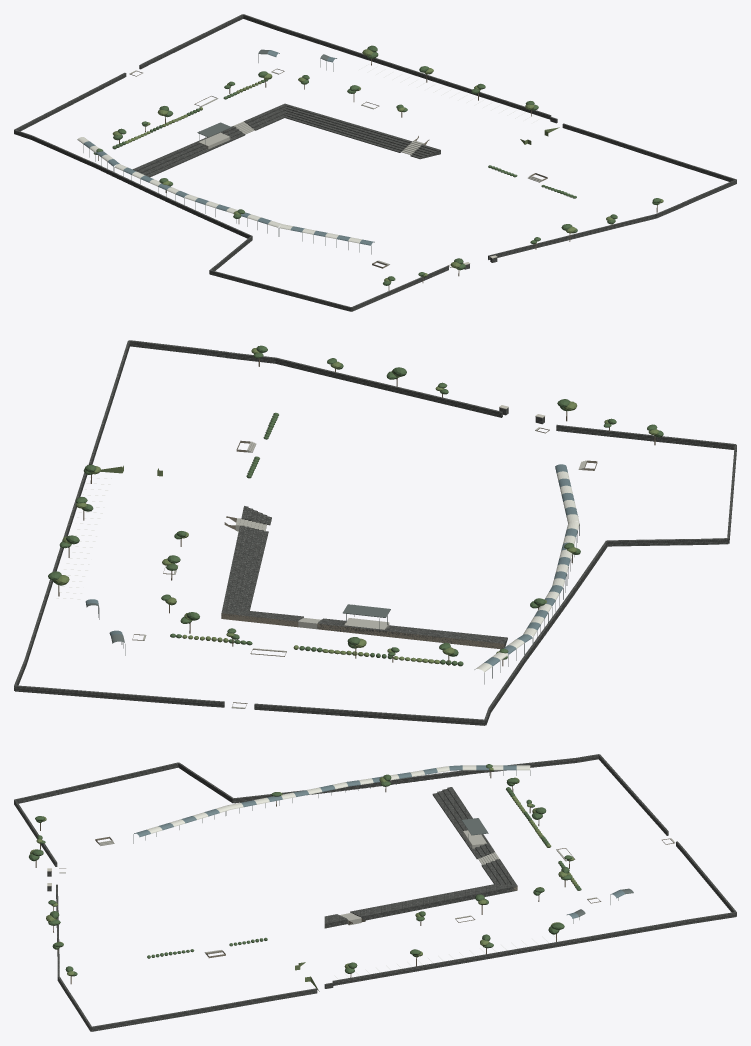
The picture shows the model from 3 angles, top to bottom: view 1: azimuth 30°, elevation 25°; view 2: azimuth 150°, elevation 25°; view 3: azimuth 270°, elevation 25°; orthographic projection. The views are drawn at different scales.
Visible parts, largest first — view 1: facility_basalt-boundary, facility_basalt-stands, planting_mixed-trees, facility_west-open-covered-walk, planting_low-shrubs, facility_open-stage; view 2: facility_basalt-boundary, facility_basalt-stands, planting_mixed-trees, facility_west-open-covered-walk, facility_terrain-contour-join, planting_low-shrubs, facility_open-stage; view 3: facility_basalt-boundary, facility_basalt-stands, facility_west-open-covered-walk, planting_mixed-trees, planting_low-shrubs, facility_open-stage.
Boxes of the visible parts, left/top/right/bottom form: facility_basalt-boundary: left=14, top=14, right=736, bottom=311; facility_basalt-stands: left=132, top=103, right=440, bottom=177; planting_mixed-trees: left=93, top=45, right=663, bottom=290; facility_west-open-covered-walk: left=77, top=137, right=374, bottom=254; planting_low-shrubs: left=112, top=79, right=576, bottom=198; facility_open-stage: left=197, top=122, right=231, bottom=149; facility_basalt-boundary: left=14, top=340, right=736, bottom=725; facility_basalt-stands: left=221, top=506, right=507, bottom=648; planting_mixed-trees: left=48, top=345, right=663, bottom=666; facility_west-open-covered-walk: left=474, top=464, right=579, bottom=684; facility_terrain-contour-join: left=100, top=427, right=597, bottom=707; planting_low-shrubs: left=170, top=412, right=463, bottom=666; facility_open-stage: left=342, top=604, right=390, bottom=630; facility_basalt-boundary: left=14, top=754, right=736, bottom=1031; facility_basalt-stands: left=324, top=787, right=517, bottom=928; facility_west-open-covered-walk: left=133, top=765, right=530, bottom=843; planting_mixed-trees: left=29, top=764, right=574, bottom=984; planting_low-shrubs: left=147, top=787, right=581, bottom=958; facility_open-stage: left=462, top=818, right=488, bottom=848.
Bounding box in the file's own units: 146 × 6.26 × 165.
11 materials, 3 textured.
